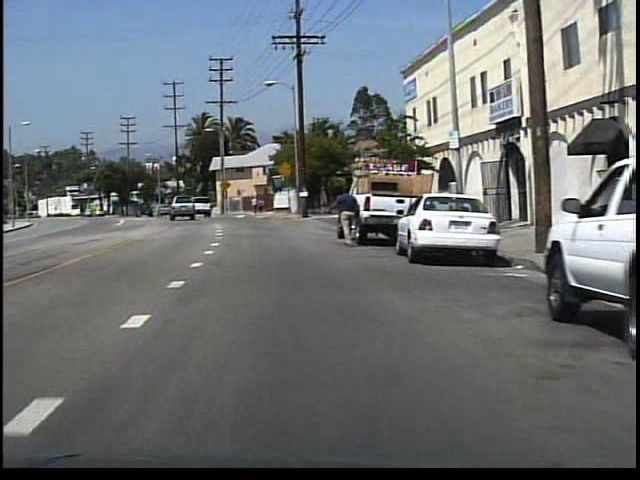person: (332, 184, 360, 249), (256, 197, 267, 216), (250, 195, 259, 217)
